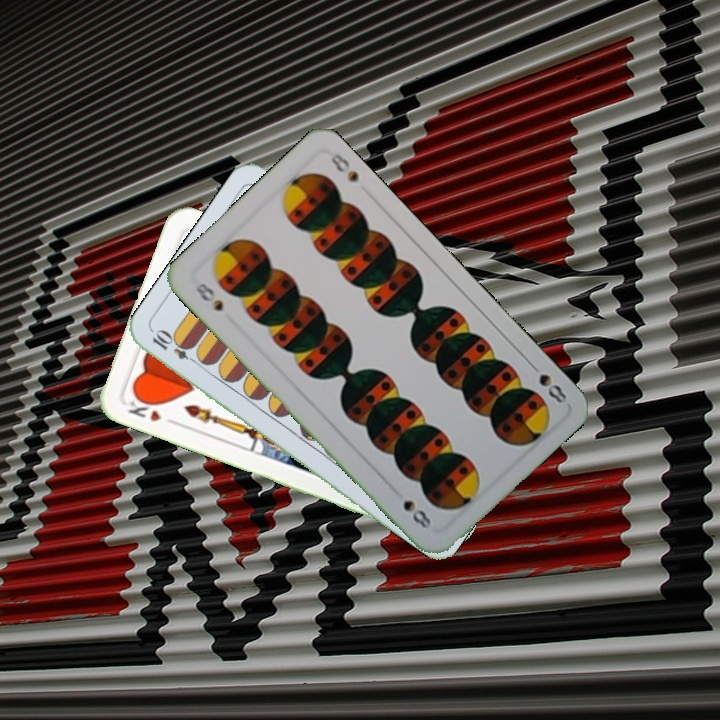E10: (148, 327, 203, 368)
HK: (124, 391, 179, 428)
S8: (524, 357, 570, 407), (191, 274, 226, 314)
